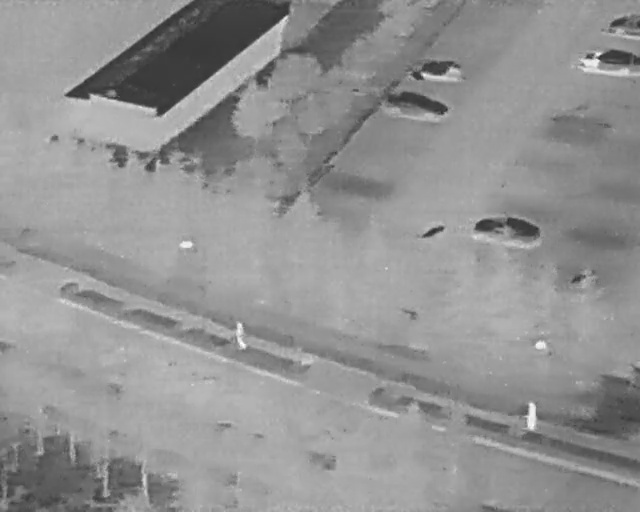Car: (378, 83, 454, 127), (469, 209, 544, 248), (405, 52, 470, 88), (575, 47, 639, 79), (603, 11, 639, 38)
Person: (523, 400, 539, 434), (233, 320, 249, 351)
